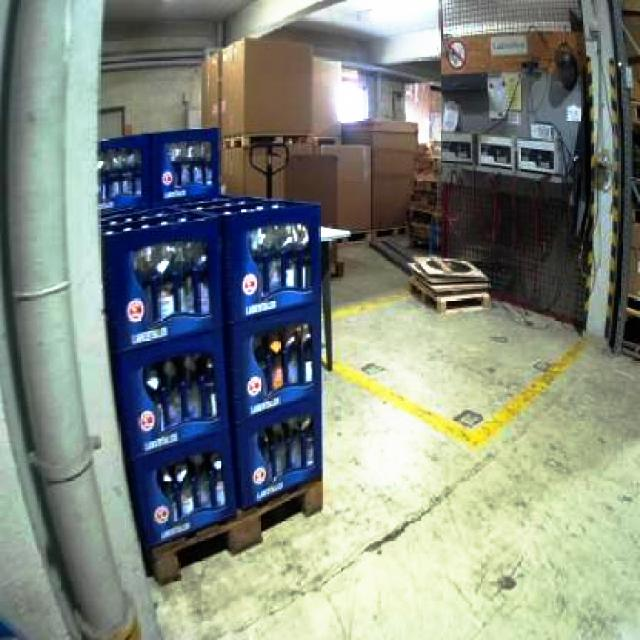ground: (149, 231, 638, 638)
pallet: (97, 189, 326, 583), (578, 0, 638, 372), (611, 2, 638, 374), (406, 254, 491, 314), (405, 143, 442, 248), (615, 212, 638, 365)
